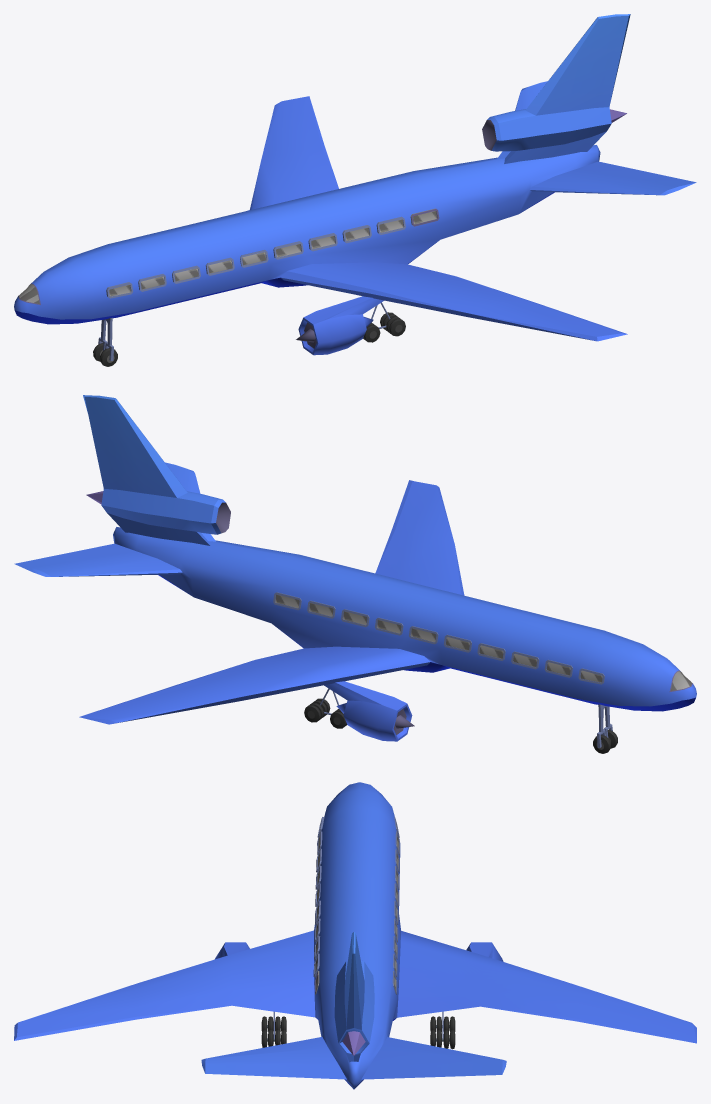
3 views of the same model, one above another, from view 1: azimuth 30°, elevation 25°; view 2: azimuth 150°, elevation 25°; view 3: azimuth 270°, elevation 25° (orthographic). The views are drawn at different scales.
Parts seen in each view (by area): view 1: Plane_3_C; view 2: Plane_3_C; view 3: Plane_3_C.
Boxes of the visible parts, box(x1,y1,x2,y2) form: Plane_3_C: box(14, 14, 696, 366); Plane_3_C: box(14, 395, 696, 753); Plane_3_C: box(14, 782, 696, 1089).
Size of the model in its own units: 27.12 by 9.69 by 24.81.
3 materials, 3 textured.
